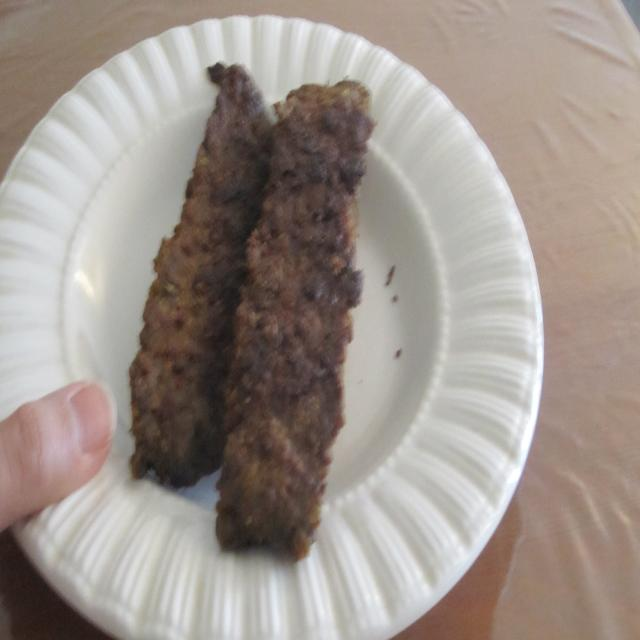cutlet: (125, 52, 384, 584)
